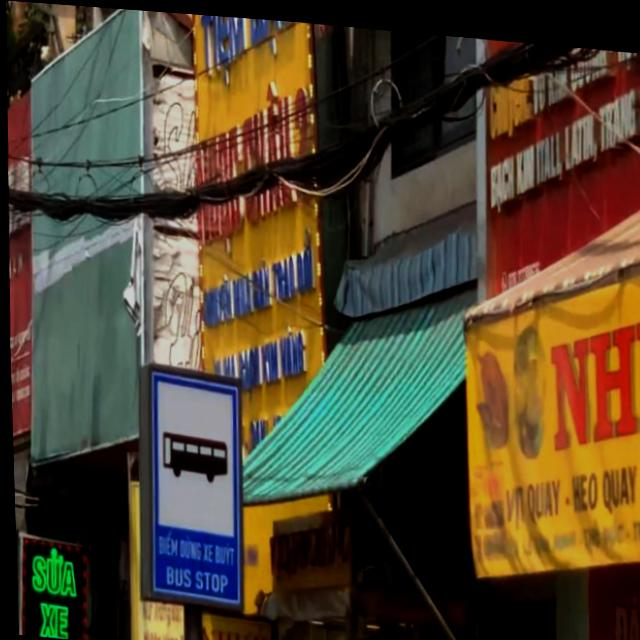Ben xe buyt: (143, 366, 243, 604)
